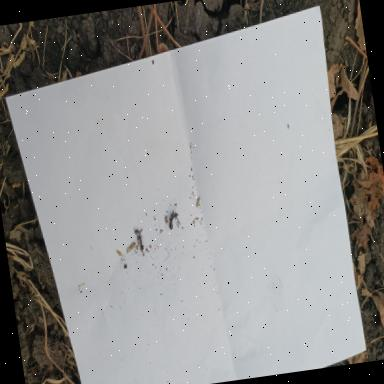pbw: (128, 242, 136, 252), (195, 196, 201, 207), (116, 249, 122, 256)
